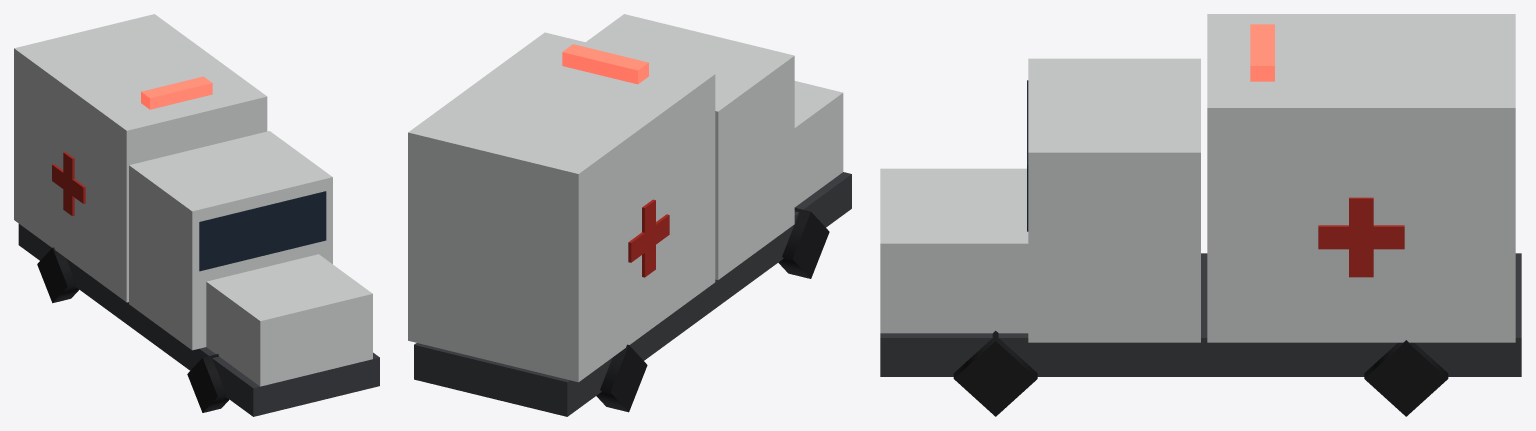
Rendered from veh_ground_ambulance_a06_lod2.glb.
3 views of the same model, side by side, from view 1: azimuth 30°, elevation 25°; view 2: azimuth 150°, elevation 25°; view 3: azimuth 270°, elevation 25° (orthographic). The views are drawn at different scales.
Parts seen in each view (by area): view 1: body, wheel_2, wheel_0; view 2: body, wheel_2, wheel_0; view 3: body, wheel_3, wheel_1.
Boxes of the visible parts, bbox=[...] form: body: bbox=[14, 14, 379, 416]; wheel_2: bbox=[187, 354, 229, 412]; wheel_0: bbox=[37, 247, 79, 303]; body: bbox=[408, 14, 851, 416]; wheel_2: bbox=[778, 208, 829, 278]; wheel_0: bbox=[596, 344, 647, 412]; body: bbox=[880, 14, 1521, 376]; wheel_3: bbox=[953, 330, 1037, 416]; wheel_1: bbox=[1364, 340, 1448, 416].
Size of the model in its own units: 1.87 by 2.9 by 5.2.
